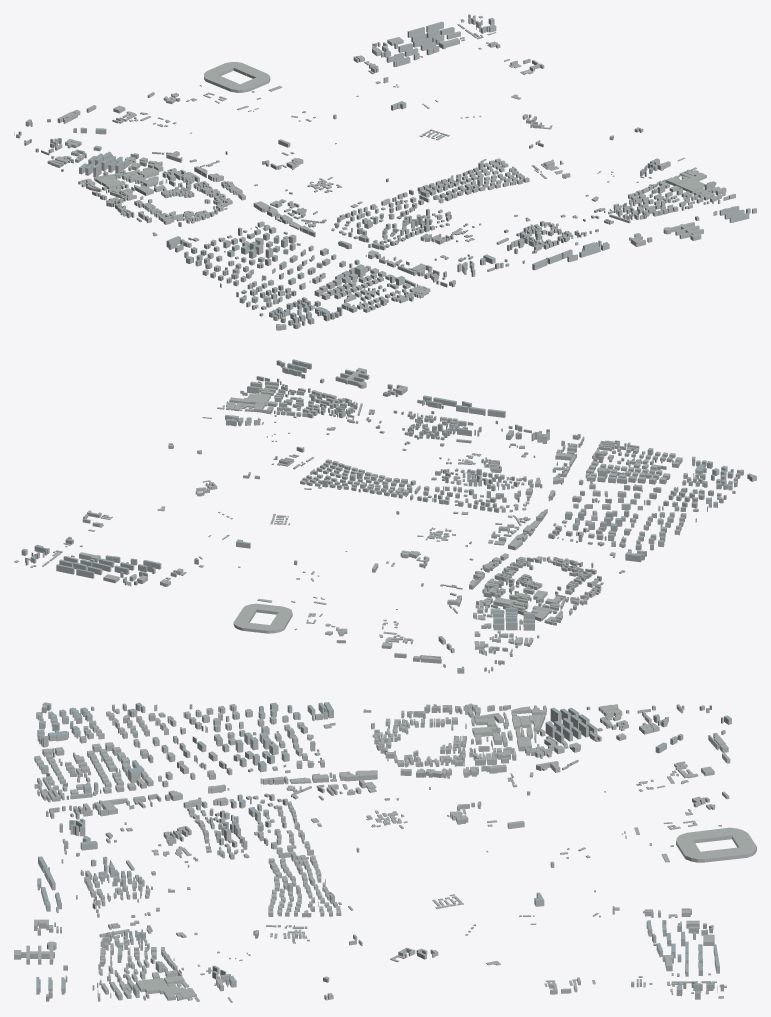
Rendered from far.glb.
3 renders of one model, top to bottom at view 1: azimuth 30°, elevation 25°; view 2: azimuth 150°, elevation 25°; view 3: azimuth 270°, elevation 25°, orthographic. The views are drawn at different scales.
Size of the model in its own units: 2119 by 41.05 by 2250.
